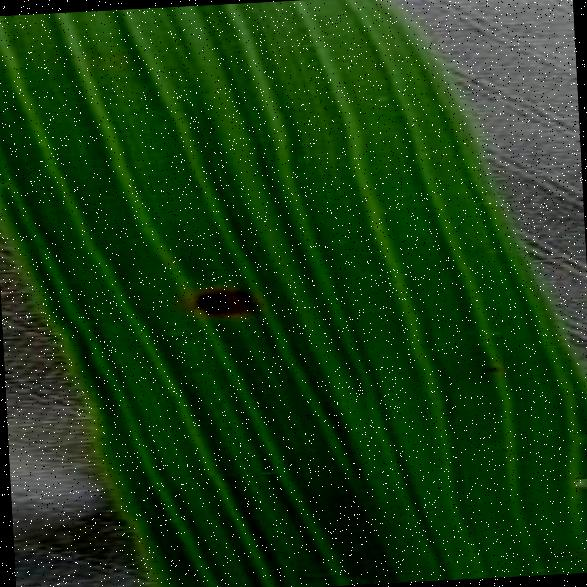Brown_Spot: (174, 269, 274, 325), (542, 542, 574, 560), (481, 357, 503, 378)
